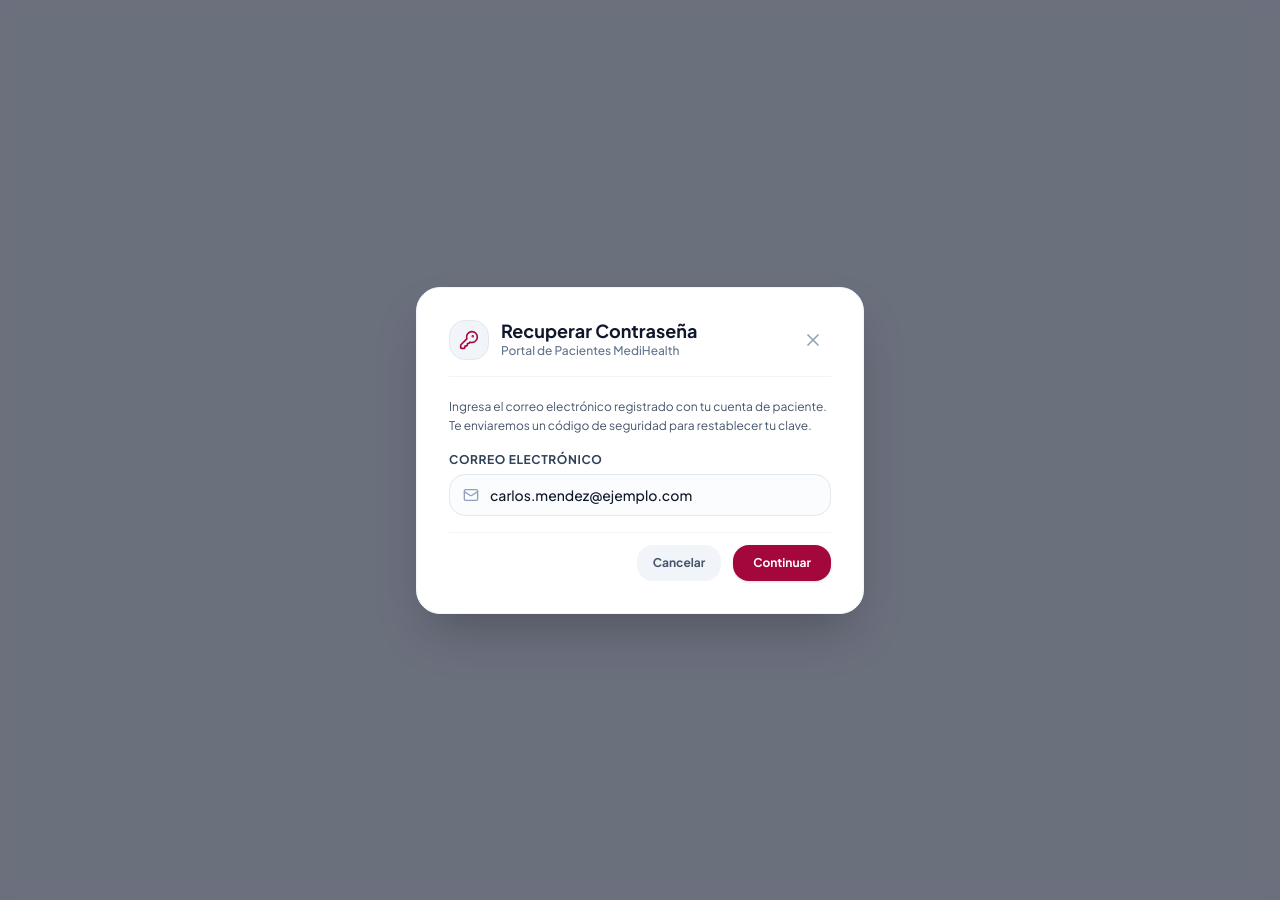
Test: ForgotPasswordModal - Recuperación de Contraseña (RF-03) › solicita el código al API y avanza al paso de restablecimiento con el código precargado
This screenshot has width=1280, height=900.
Click the button "Continuar": (782,562) [733, 544, 831, 580]
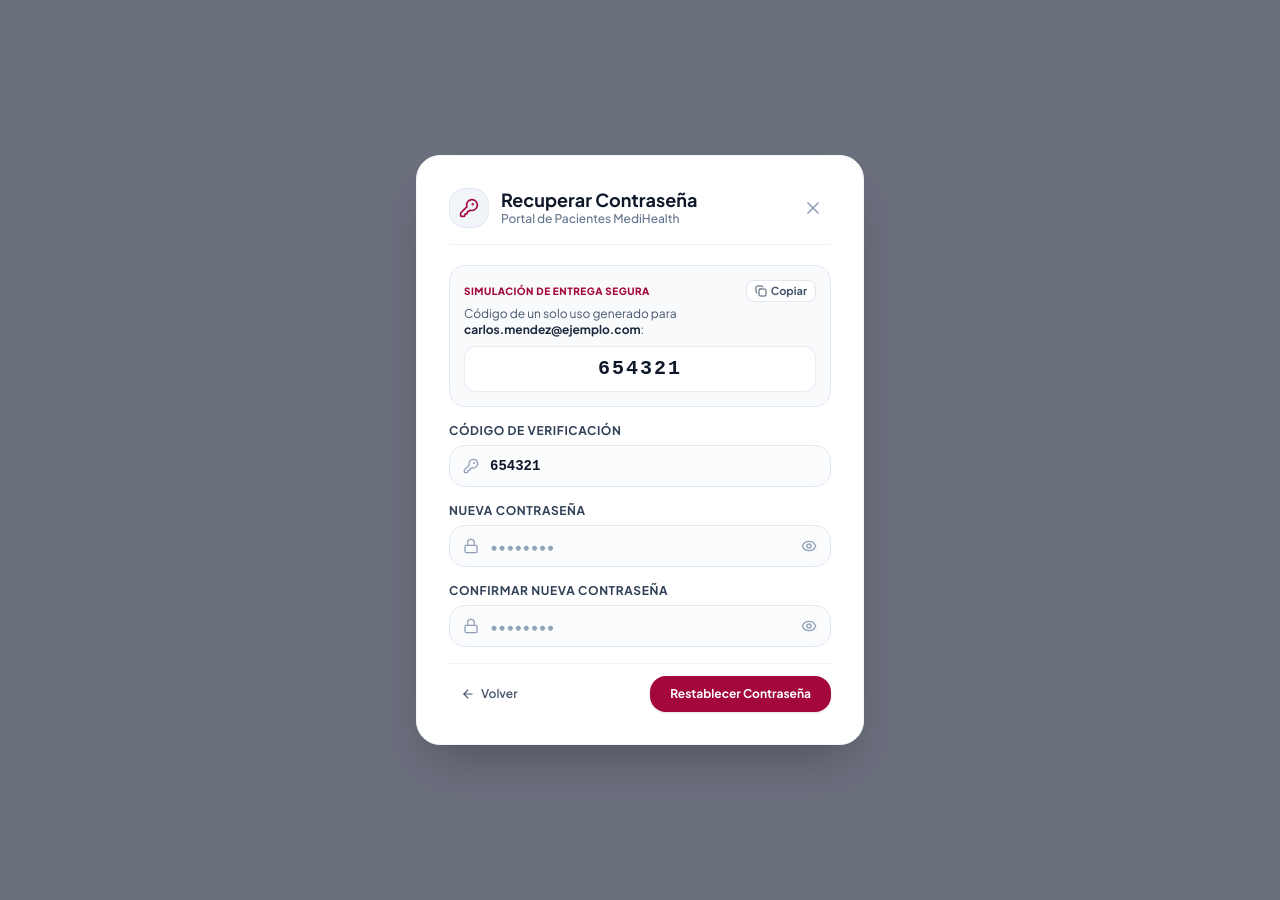
Expected: the text "Simulación de Entrega Segura" is shown, [464, 284, 650, 298]
Expected: the text "654321" is shown, [464, 346, 816, 392]
Expected: the field labelled "Código de Verificación" holds "654321", [449, 445, 831, 487]
